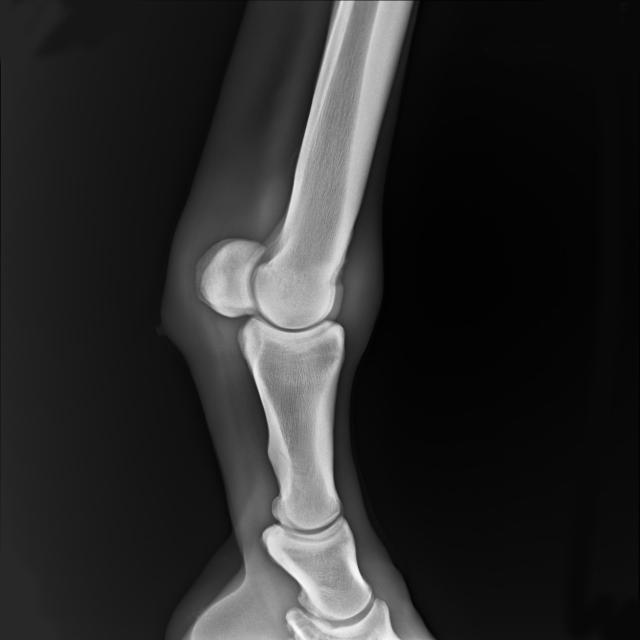joint-ht8A: (189, 168, 387, 405)
